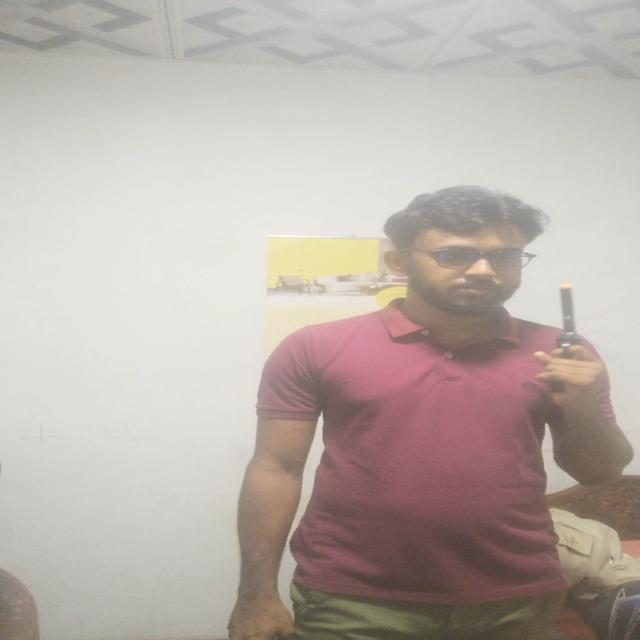Gun_Holder: (534, 279, 626, 409)
Person: (216, 180, 640, 640)
